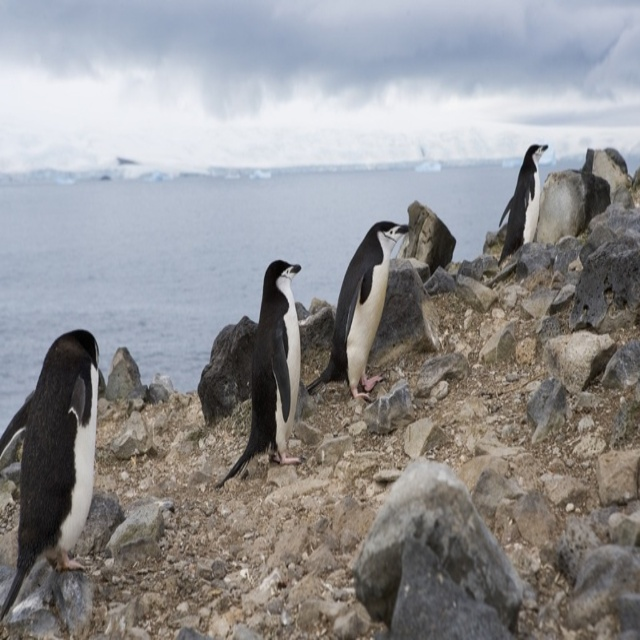Penguin: (0, 325, 101, 623), (216, 256, 305, 489), (304, 224, 404, 393), (498, 144, 547, 268)
